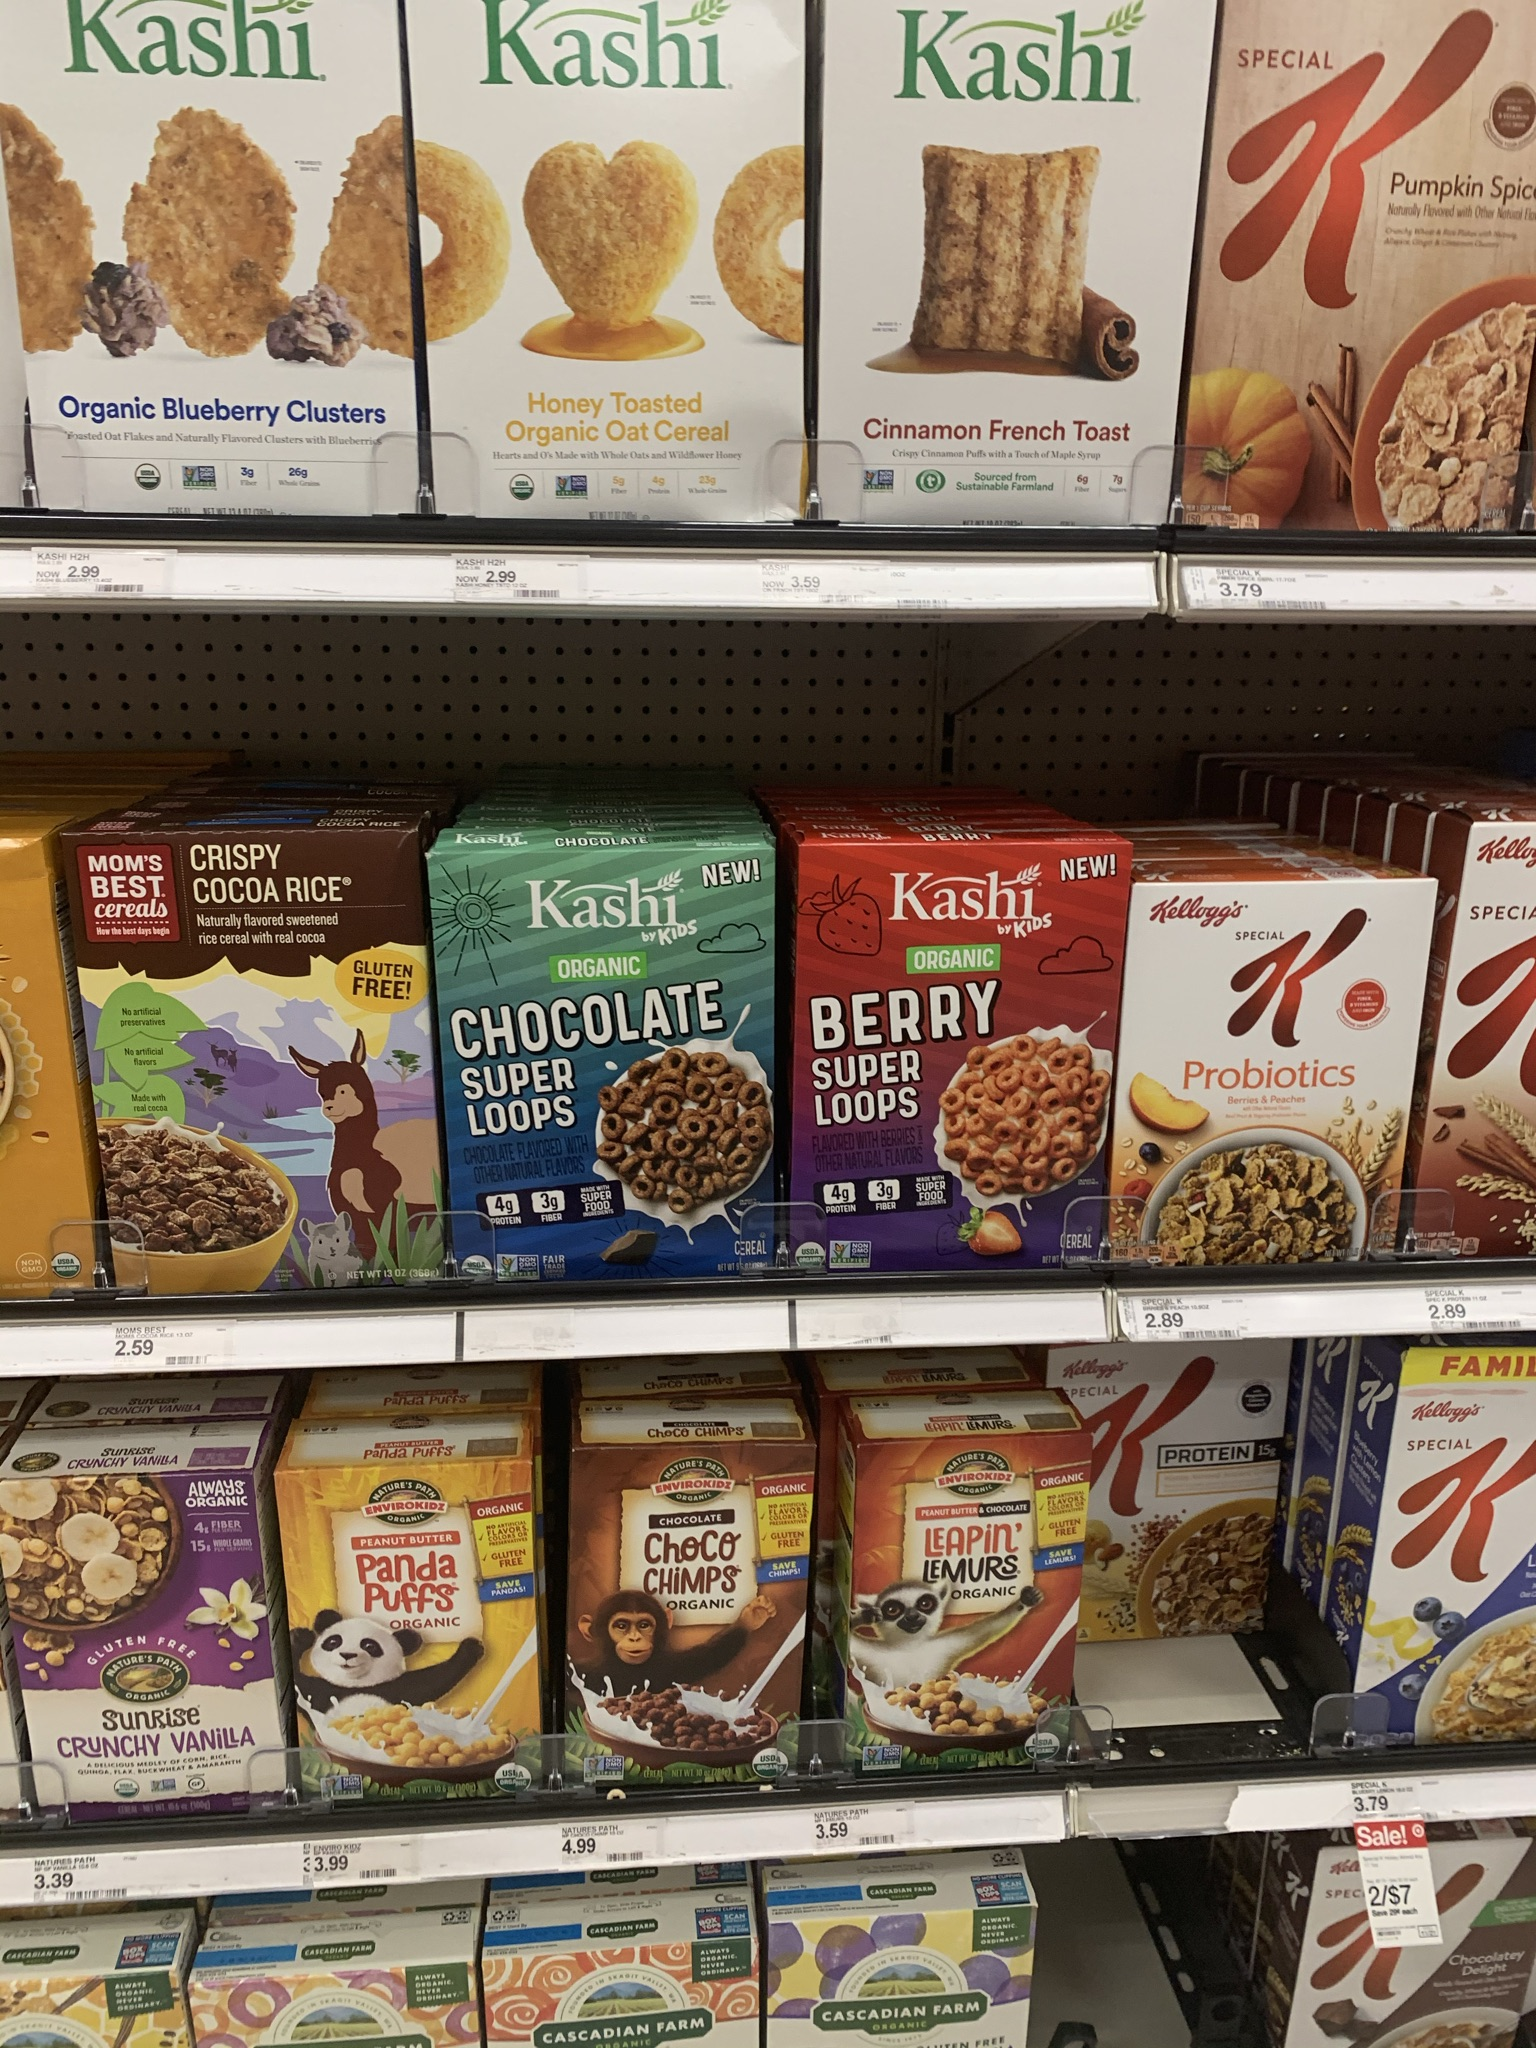cereal: (61, 832, 445, 1297), (1218, 6, 1536, 542), (429, 848, 792, 1297), (792, 847, 1105, 1279), (1134, 880, 1412, 1274), (263, 1461, 549, 1809), (561, 1450, 808, 1804), (839, 1438, 1075, 1800), (1049, 1347, 1291, 1650), (1386, 1347, 1536, 1766)
